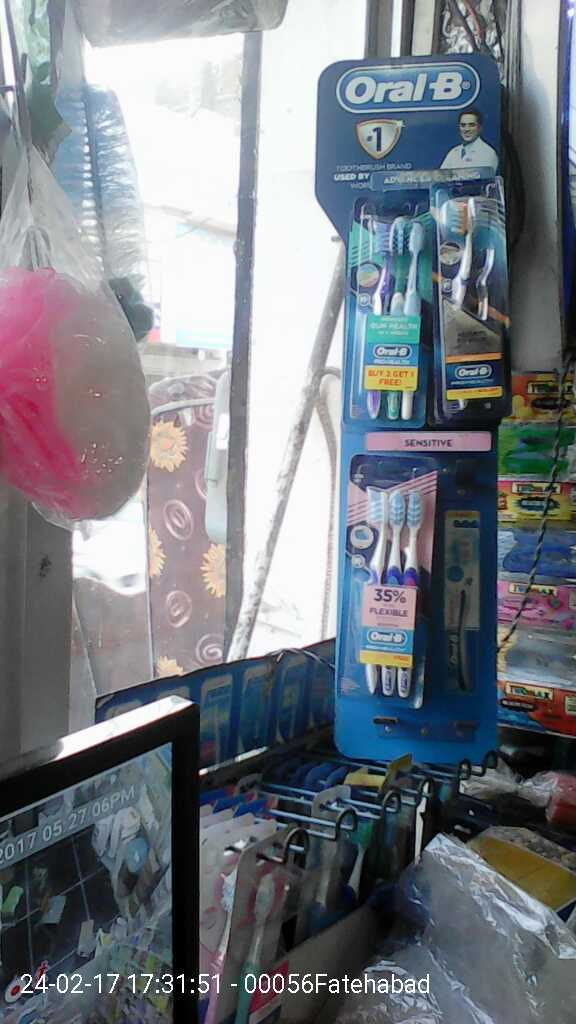oralb: (344, 474, 440, 701), (439, 186, 515, 401), (354, 212, 425, 422)
